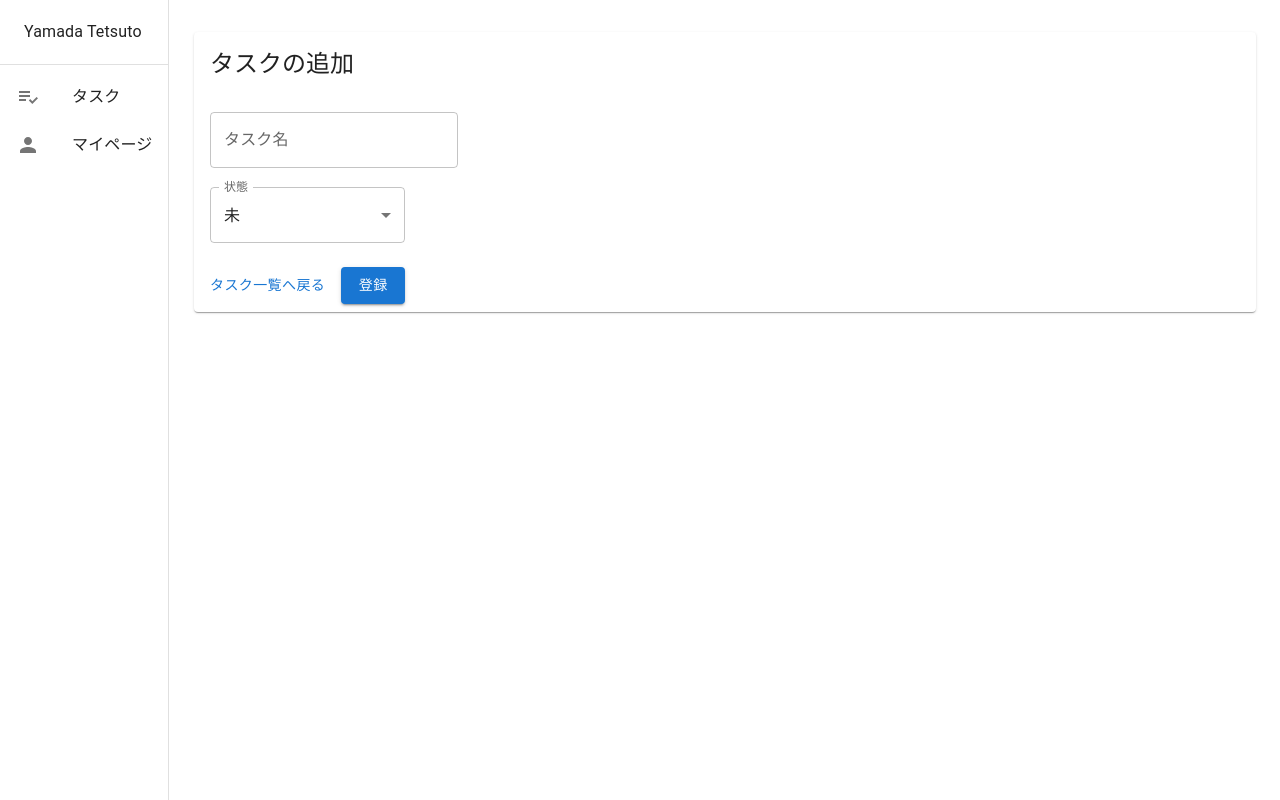
TaskCreate › 登録失敗したら、エラーが表示される
Step 1. Type "家計簿をつける" into the field with test id "TaskCreateName" → (334, 140), box [210,112,458,168]
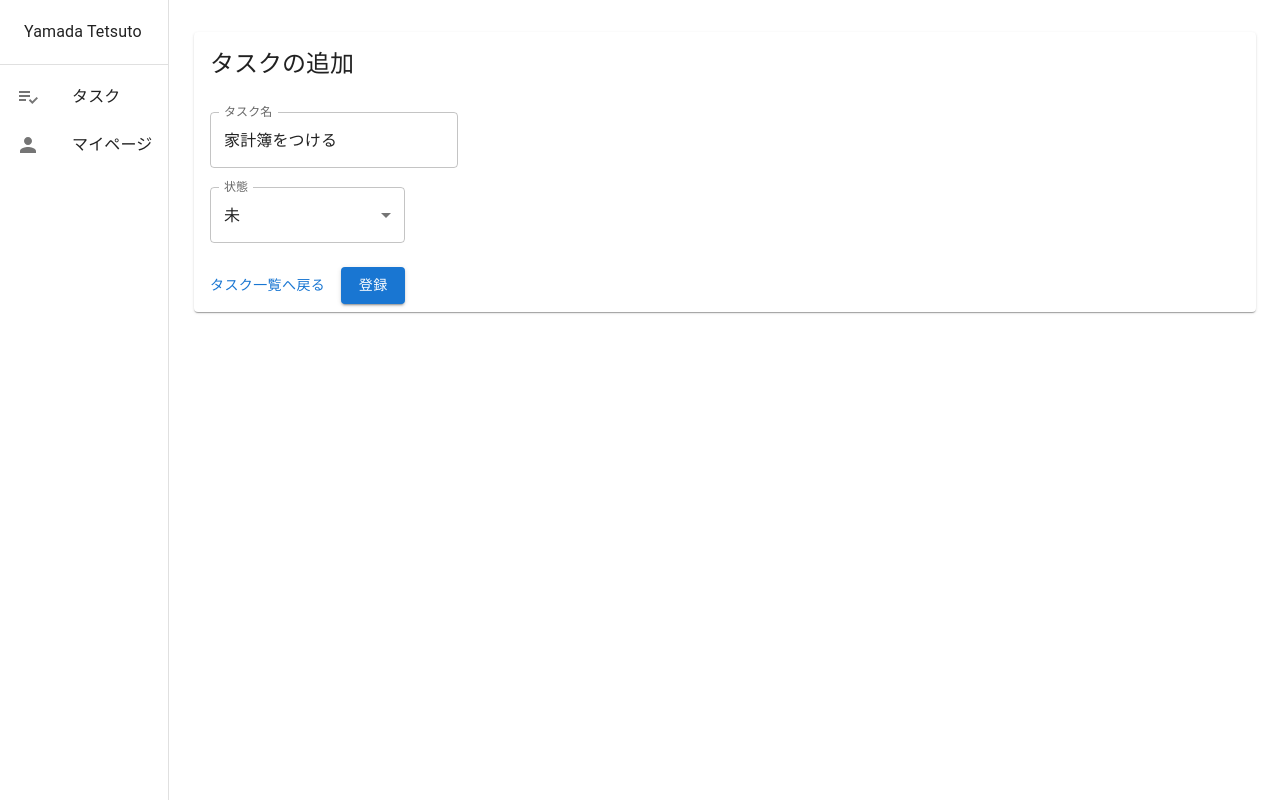
Step 2. Click the button with test id "TaskCreateSubmitBtn" → (373, 285), box [341,267,405,304]
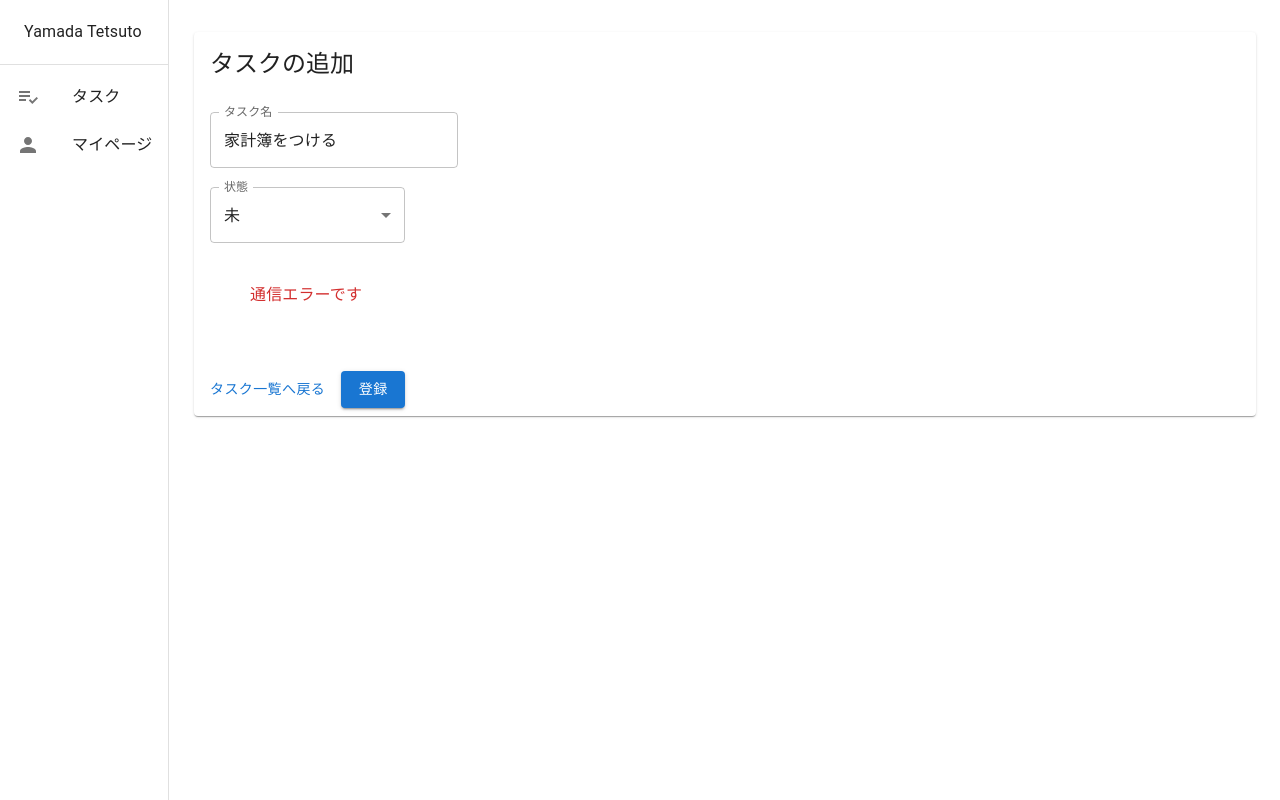
Expected: the text with test id "TaskCreateErr" reads "通信エラーです", [250,285,362,304]
